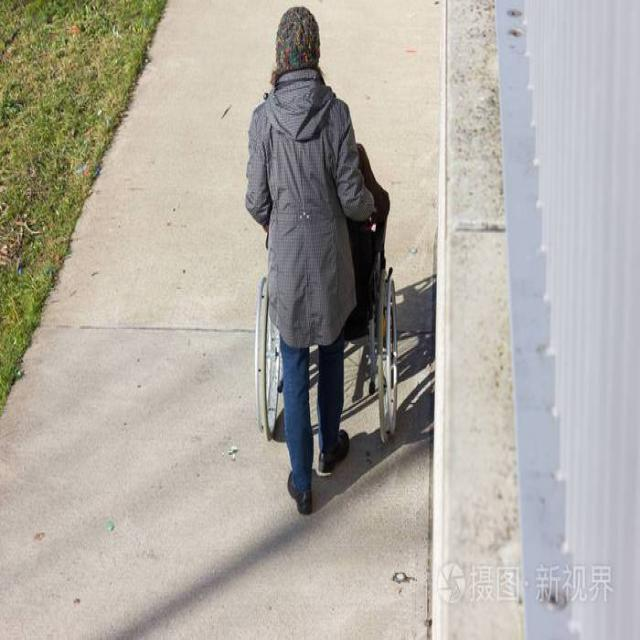wheelchairs: (235, 160, 412, 460)
